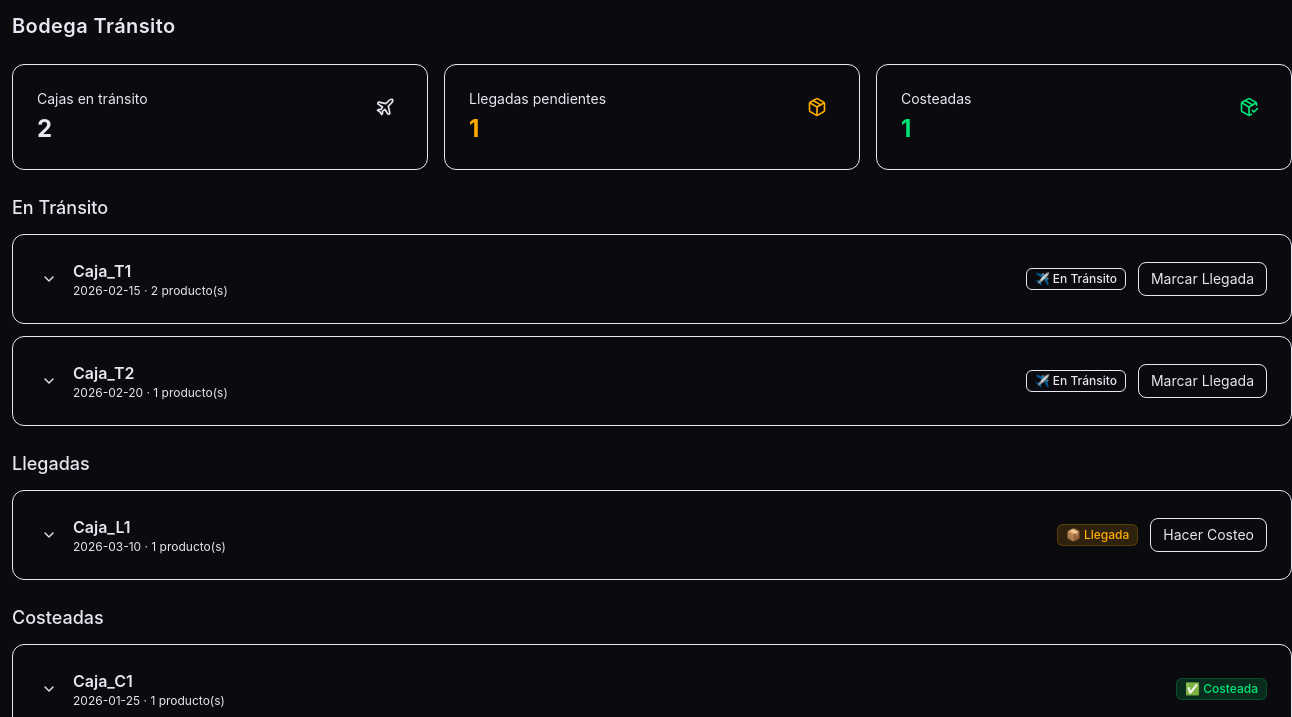
Test: BodegaTransitoPage › shows product quantity in expanded view
The width and height of the screenshot is (1292, 717).
# Expand first box
Step 1. Click the button without text next to "Caja_T1" → (49, 279), box 37,267 -> 61,291
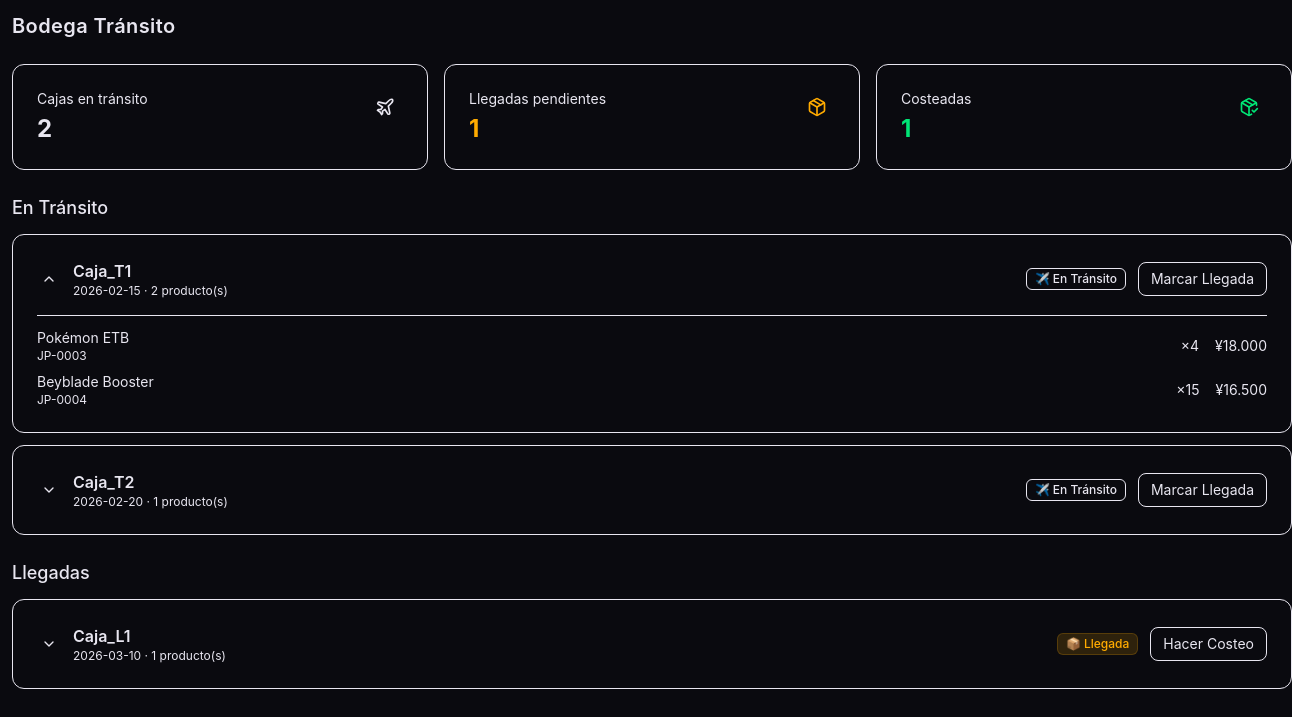
Check: the text "×4" is shown, box 1181,336 -> 1199,356
Check: the text "×15" is shown, box 1176,380 -> 1200,400
